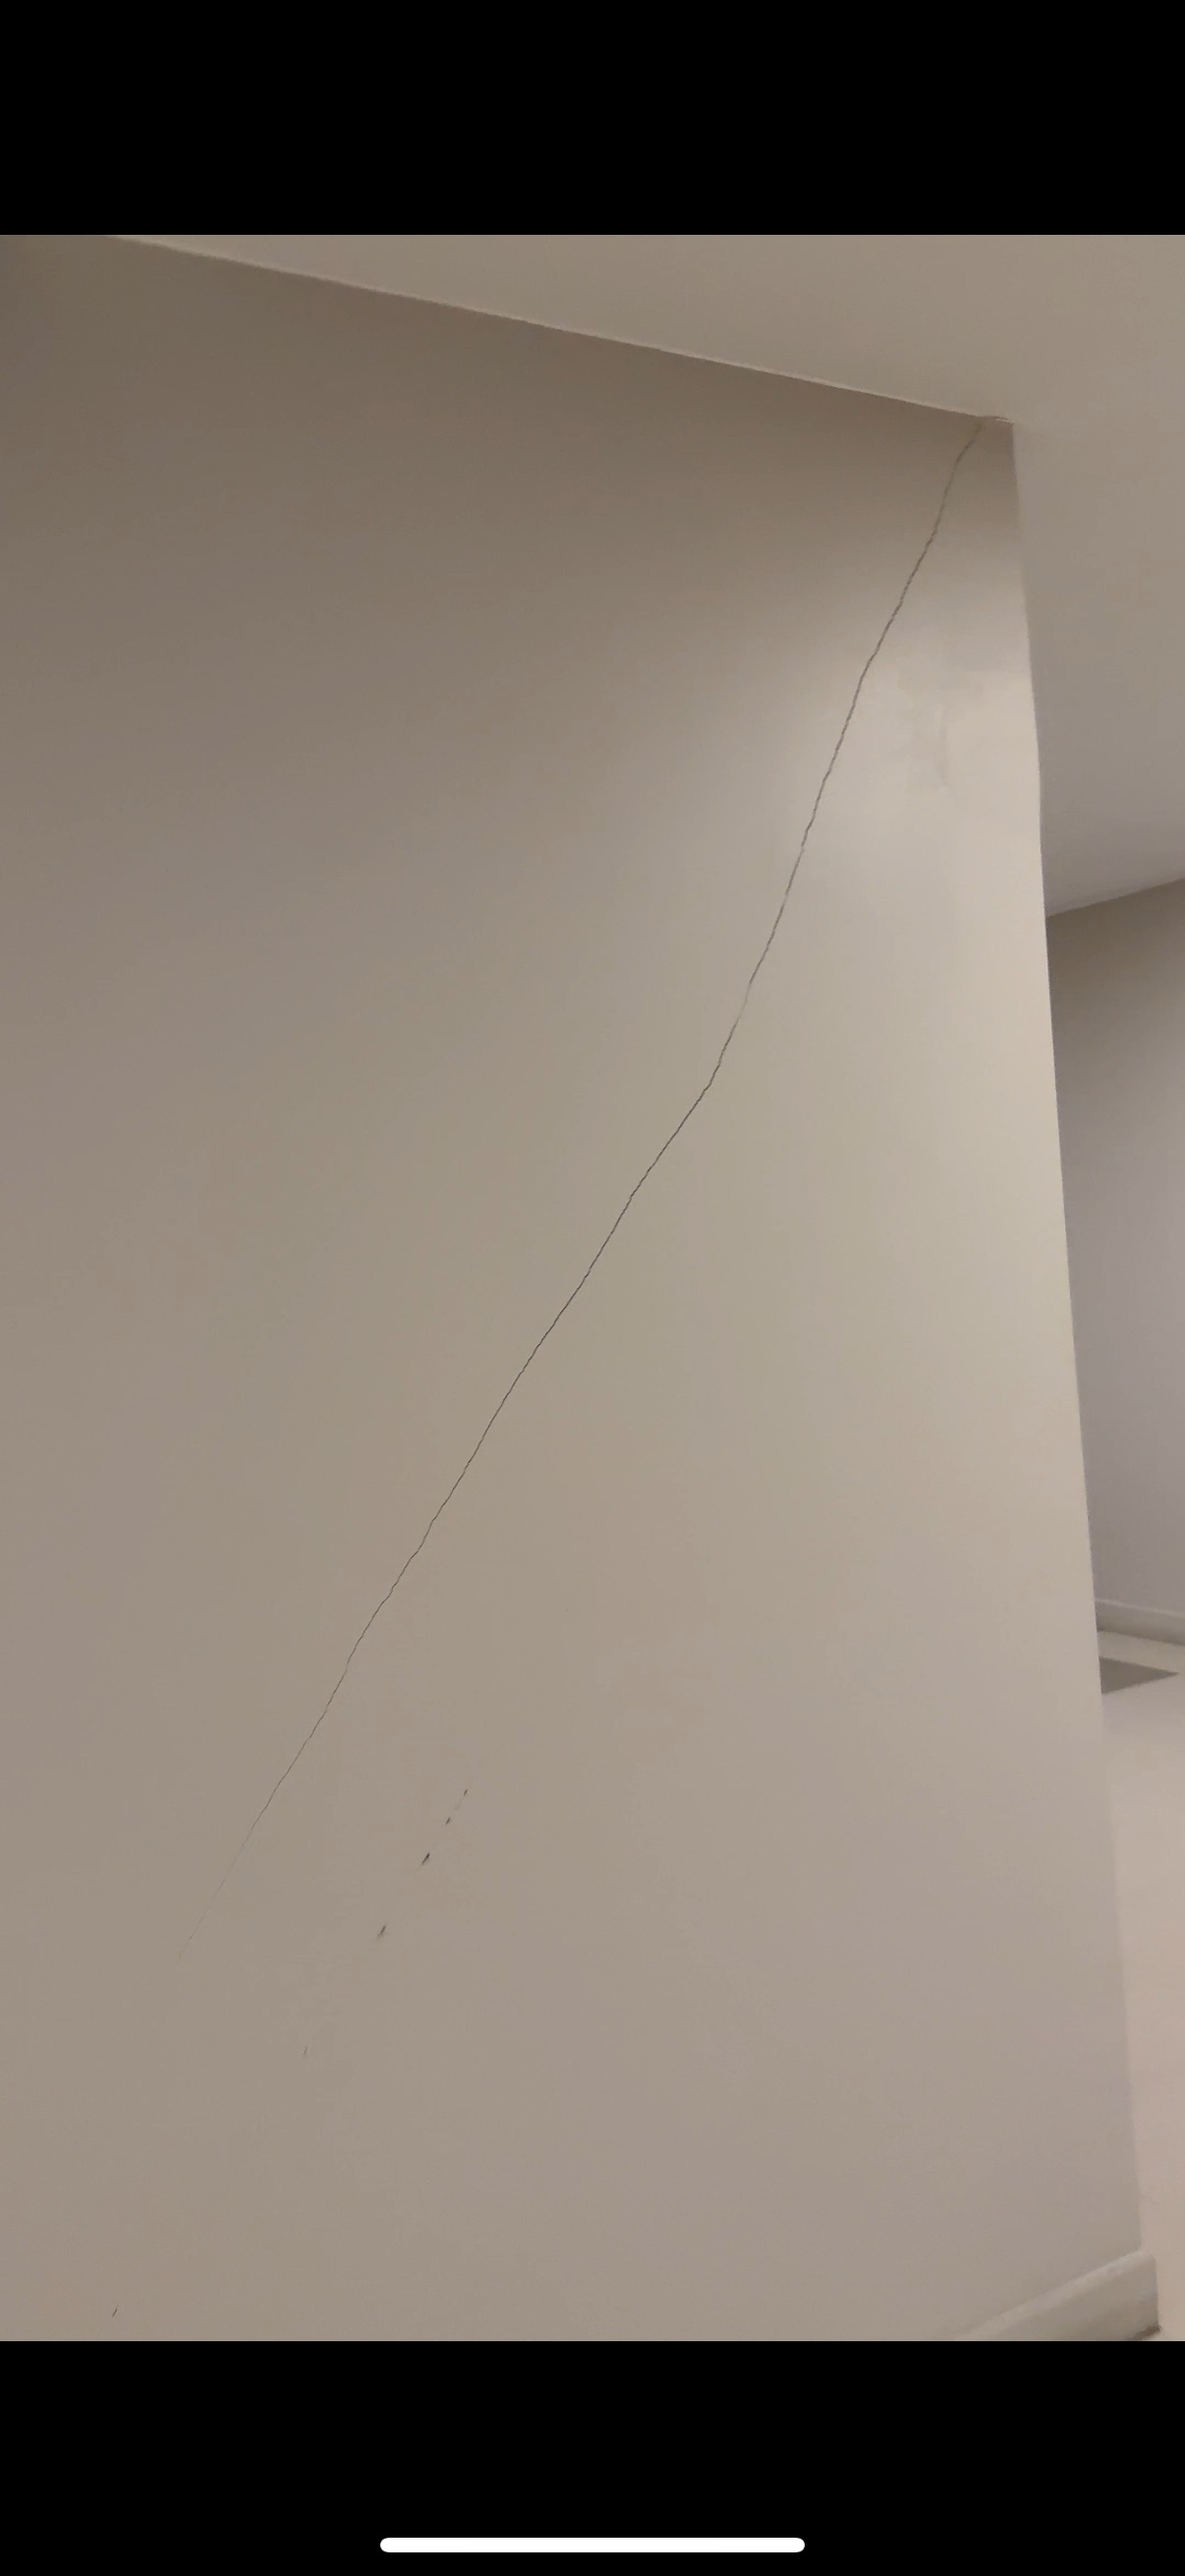Low: (159, 399, 1003, 1999)
